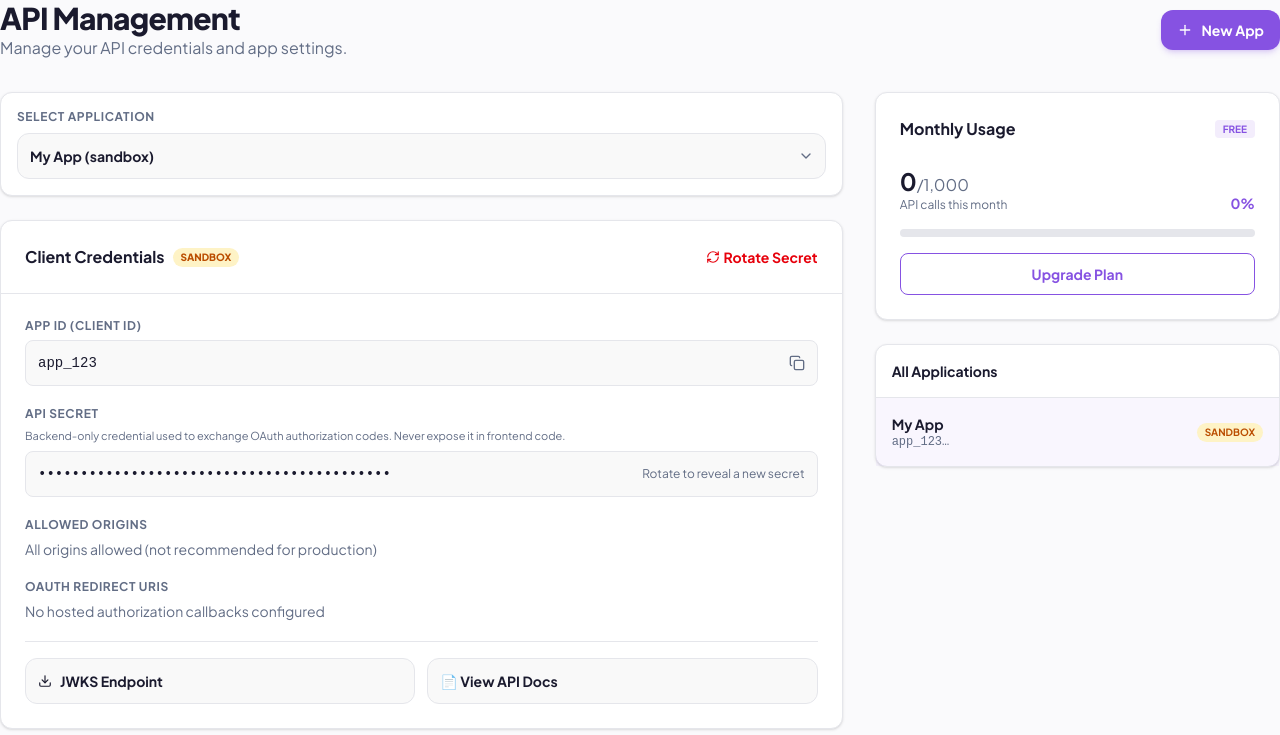
Test case: APIManagement › opens create app modal
Expected: the text "My App" is shown, [892,414,949,434]
Click the button "New App" at (1221, 30), box [1161,10,1279,50]
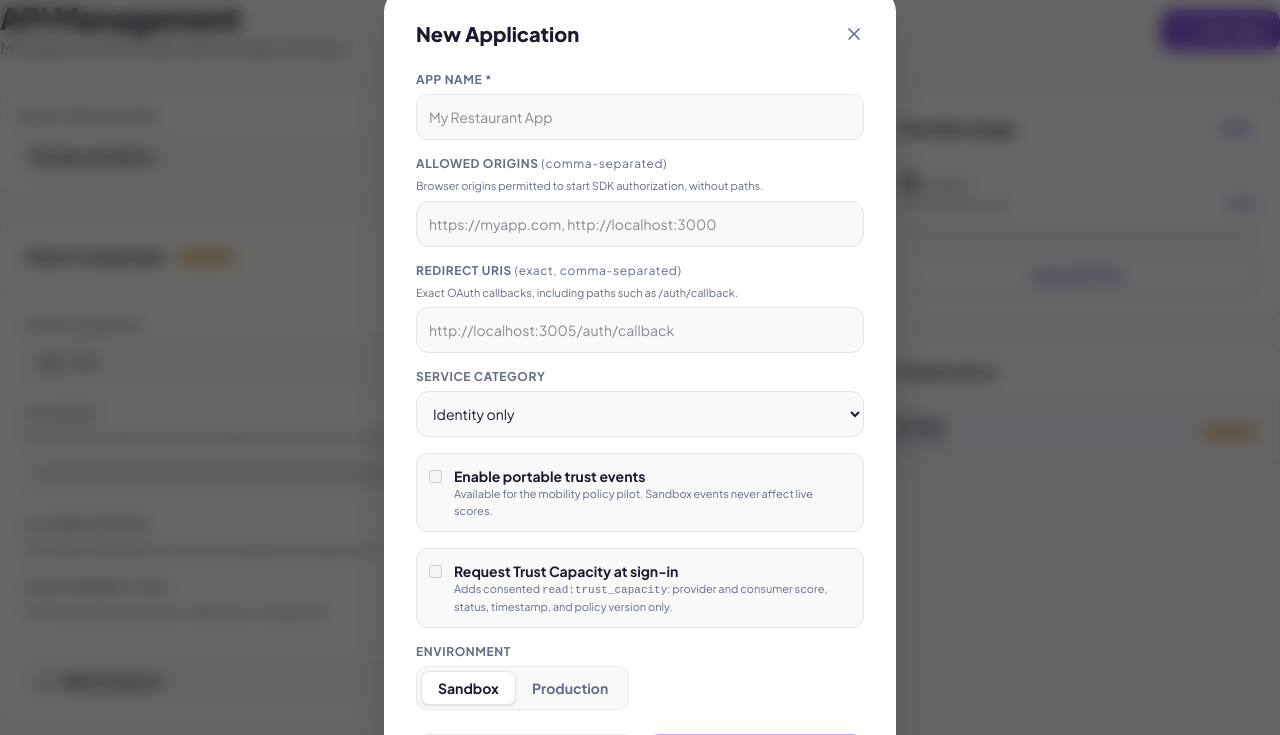
Now the heading "New Application" is shown, box [416,20,579,48]
